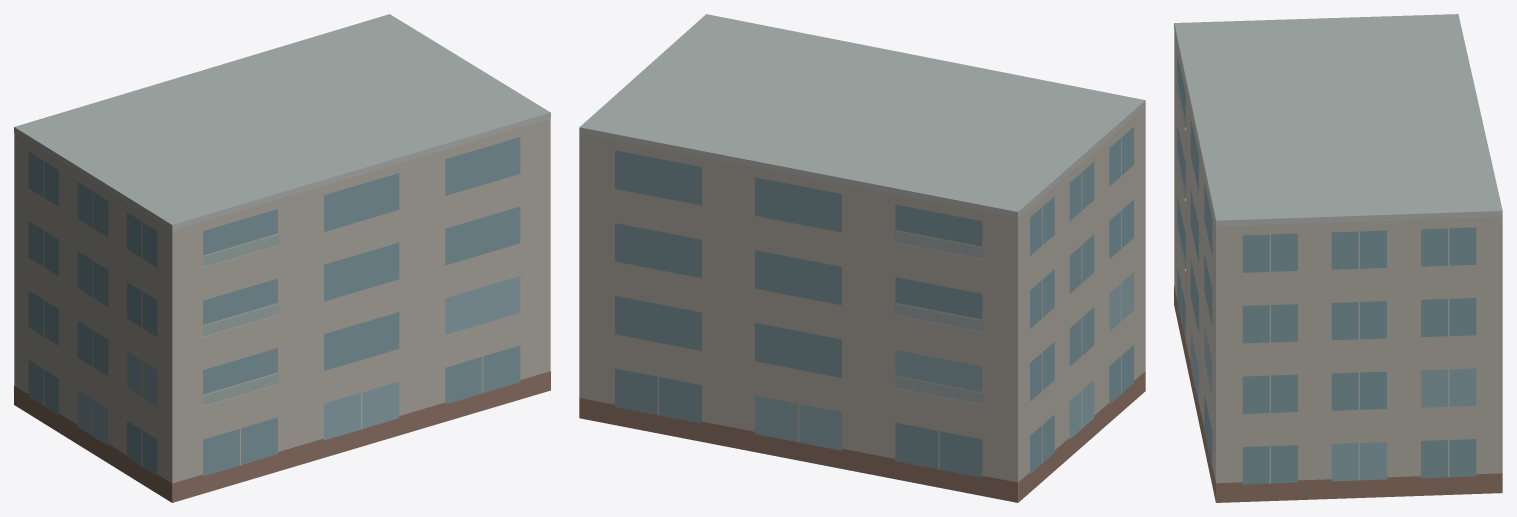
File: survey-upis-33004360.glb
3 views of the same model, side by side, from view 1: azimuth 30°, elevation 25°; view 2: azimuth 150°, elevation 25°; view 3: azimuth 270°, elevation 25° (orthographic). The views are drawn at different scales.
Visible parts, largest first — view 1: survey-upis-33004360.tmp; view 2: survey-upis-33004360.tmp; view 3: survey-upis-33004360.tmp.
Part boxes in pixels (<box>): survey-upis-33004360.tmp: <box>14,14,550,502</box>; survey-upis-33004360.tmp: <box>579,14,1145,502</box>; survey-upis-33004360.tmp: <box>1174,14,1502,502</box>.
Bounding box in the file's own units: 18.08 × 11.5 × 12.15.
